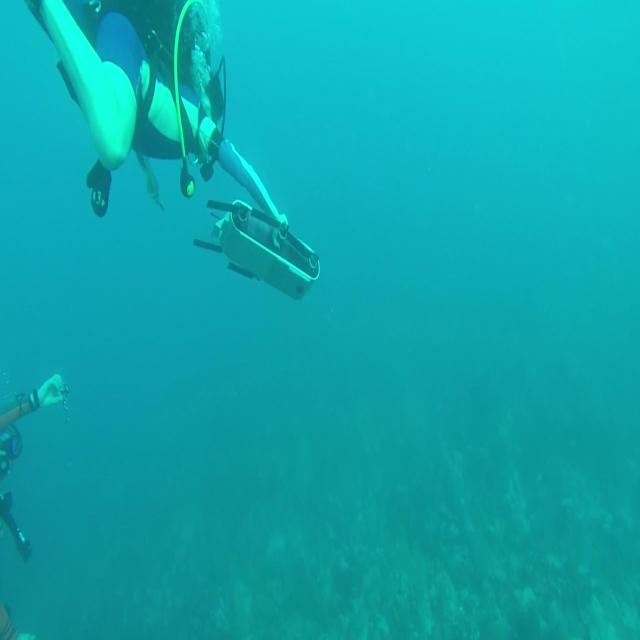human: (24, 0, 226, 218), (0, 371, 69, 563)
